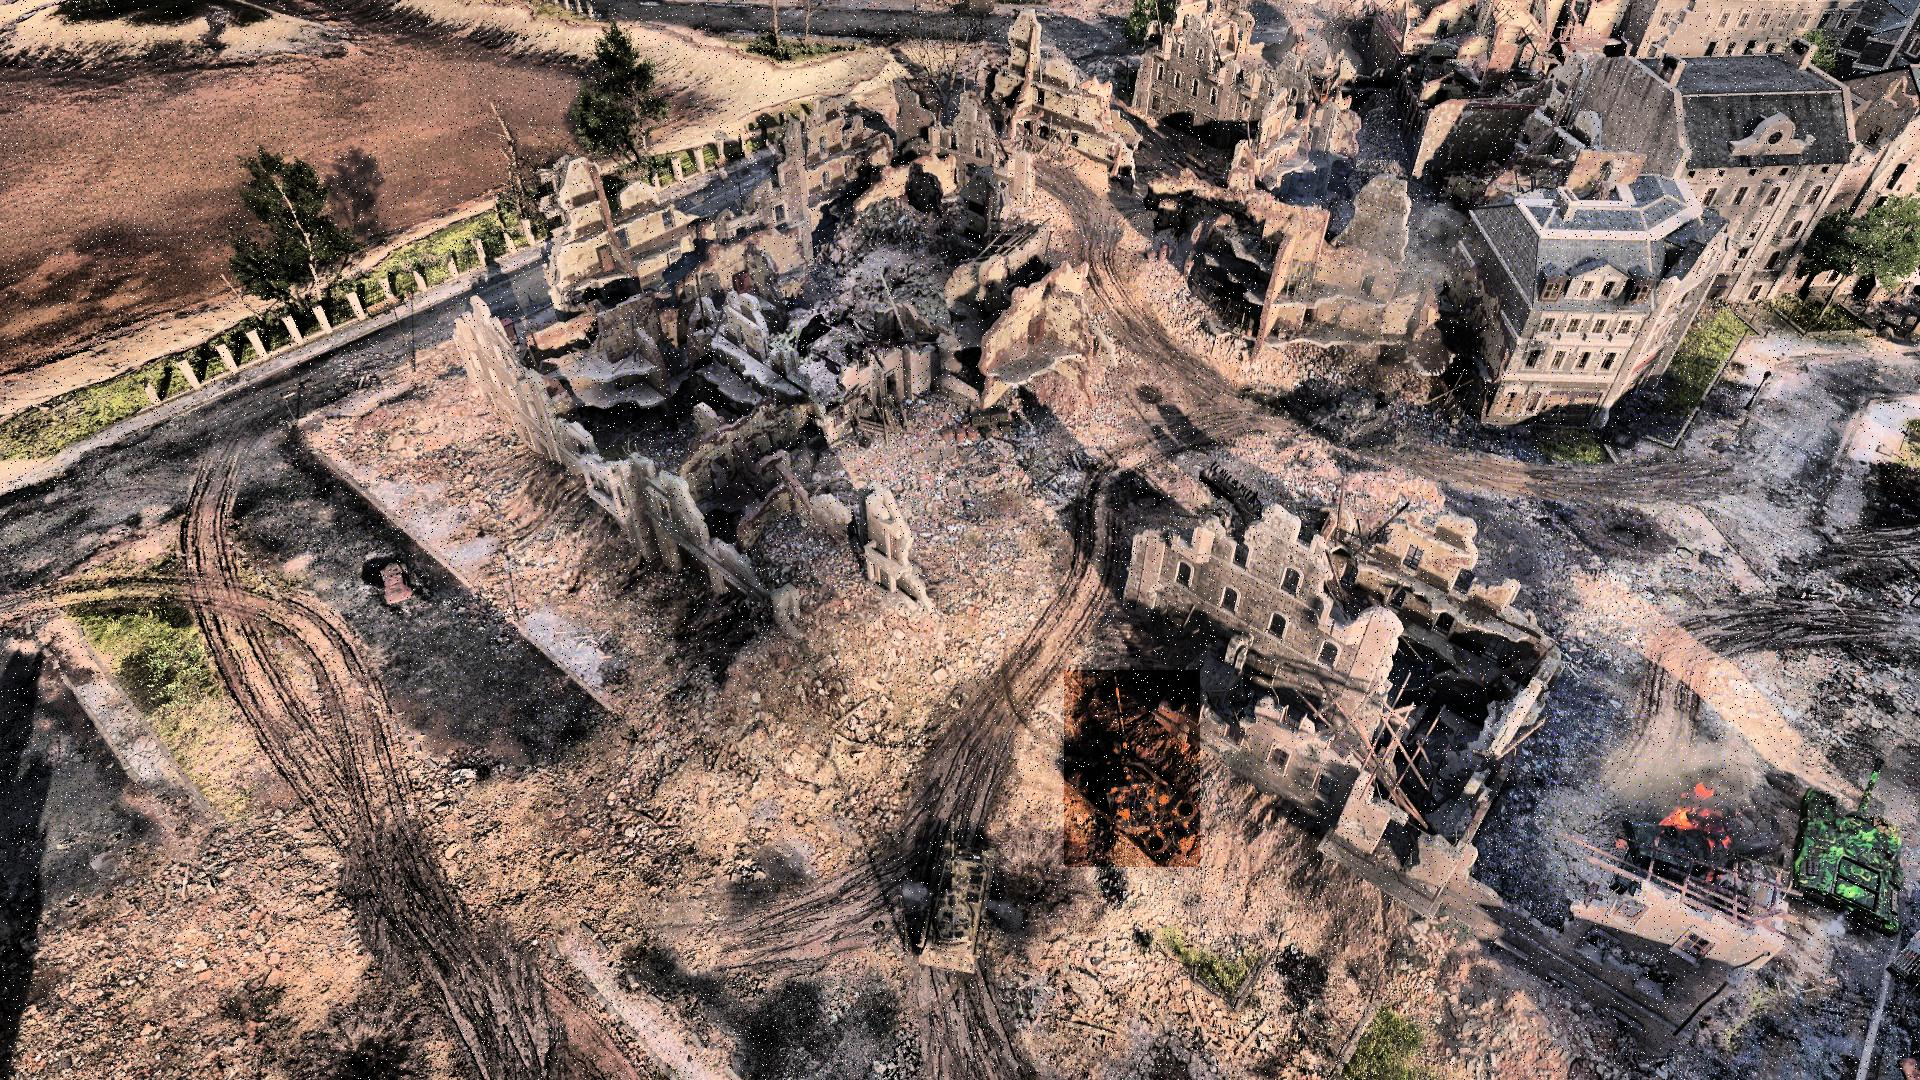military-vehicle: (1064, 670, 1200, 866), (918, 815, 993, 977)
